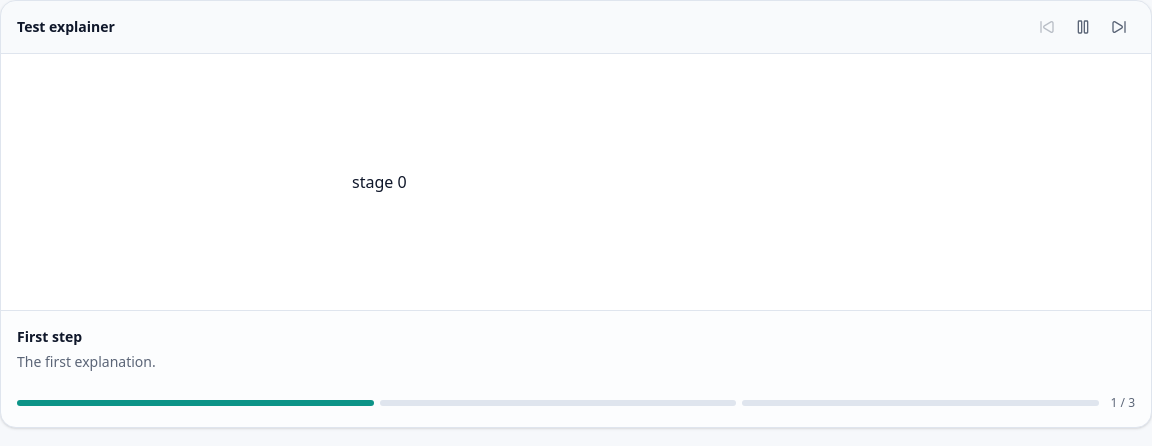
Test: ConceptExplainer › jumps straight to a step when its marker is clicked
Step 1. Click the button named "Step 3: Third step" → (920, 403), box [742,400,1098,406]
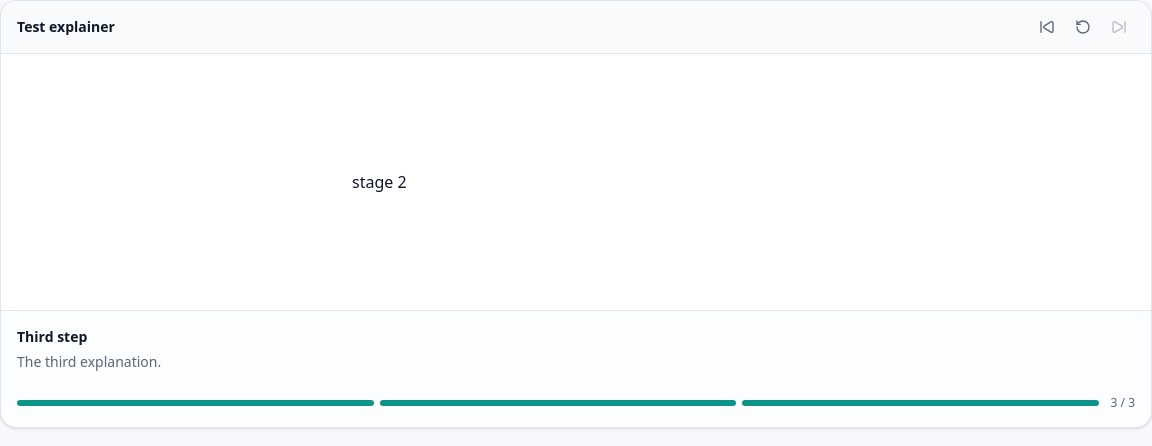
Now the text "Third step" is shown, box [17,327,87,346]
Now the text "3 / 3" is shown, box [1110,395,1135,411]
